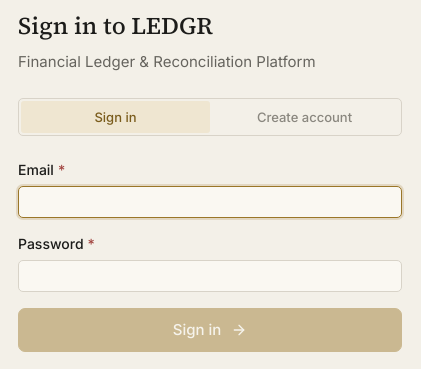
LoginPage › keeps the submit button disabled until both fields are filled
This screenshot has width=421, height=369.
Expected: the button "Sign in" is disabled, [18, 308, 402, 352]
In the field labelled "Email *": [210, 202] box [18, 186, 402, 218], type "a@b.co"
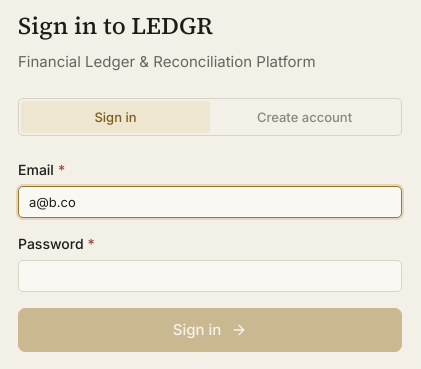
In the password field labelled "Password *": [210, 276] box [18, 260, 402, 292], type "x"
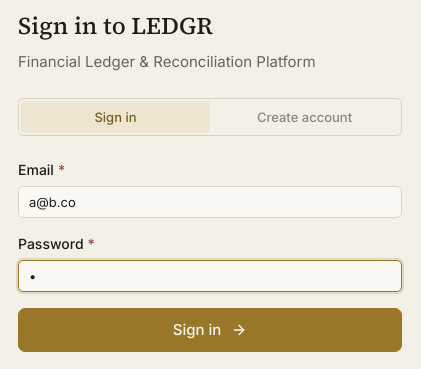
Expected: the button "Sign in" is enabled, [18, 308, 402, 352]
